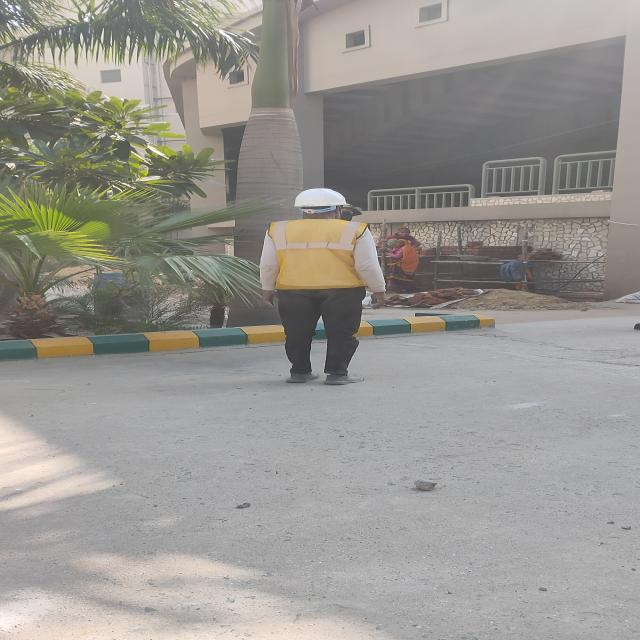safe: (268, 188, 369, 384)
unsafe: (384, 228, 419, 294)
